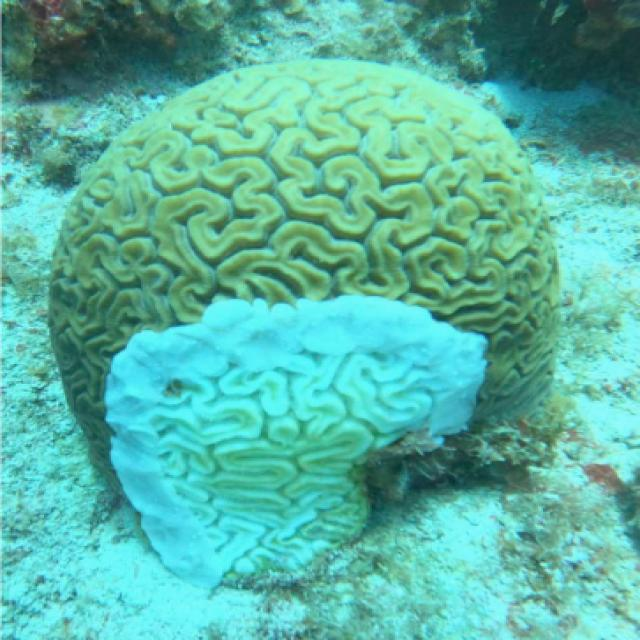Coral: (46, 58, 560, 595)
